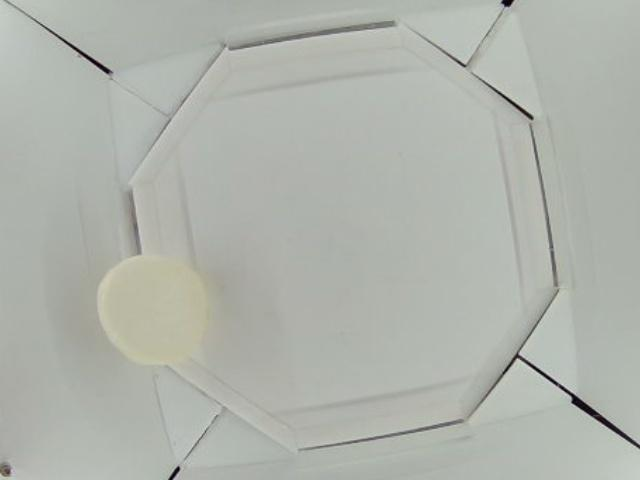Mooli: (96, 256, 209, 364)
